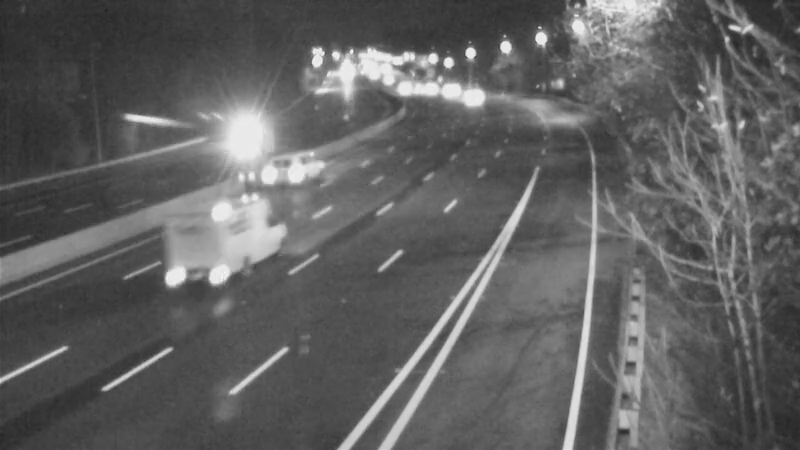vehicle: (251, 127, 331, 207), (167, 215, 247, 295), (406, 64, 456, 114), (426, 67, 476, 117), (446, 70, 496, 120), (210, 112, 260, 162)
